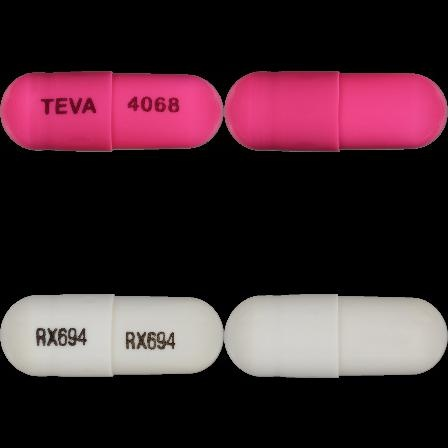33261-861: (0, 0, 224, 224)
